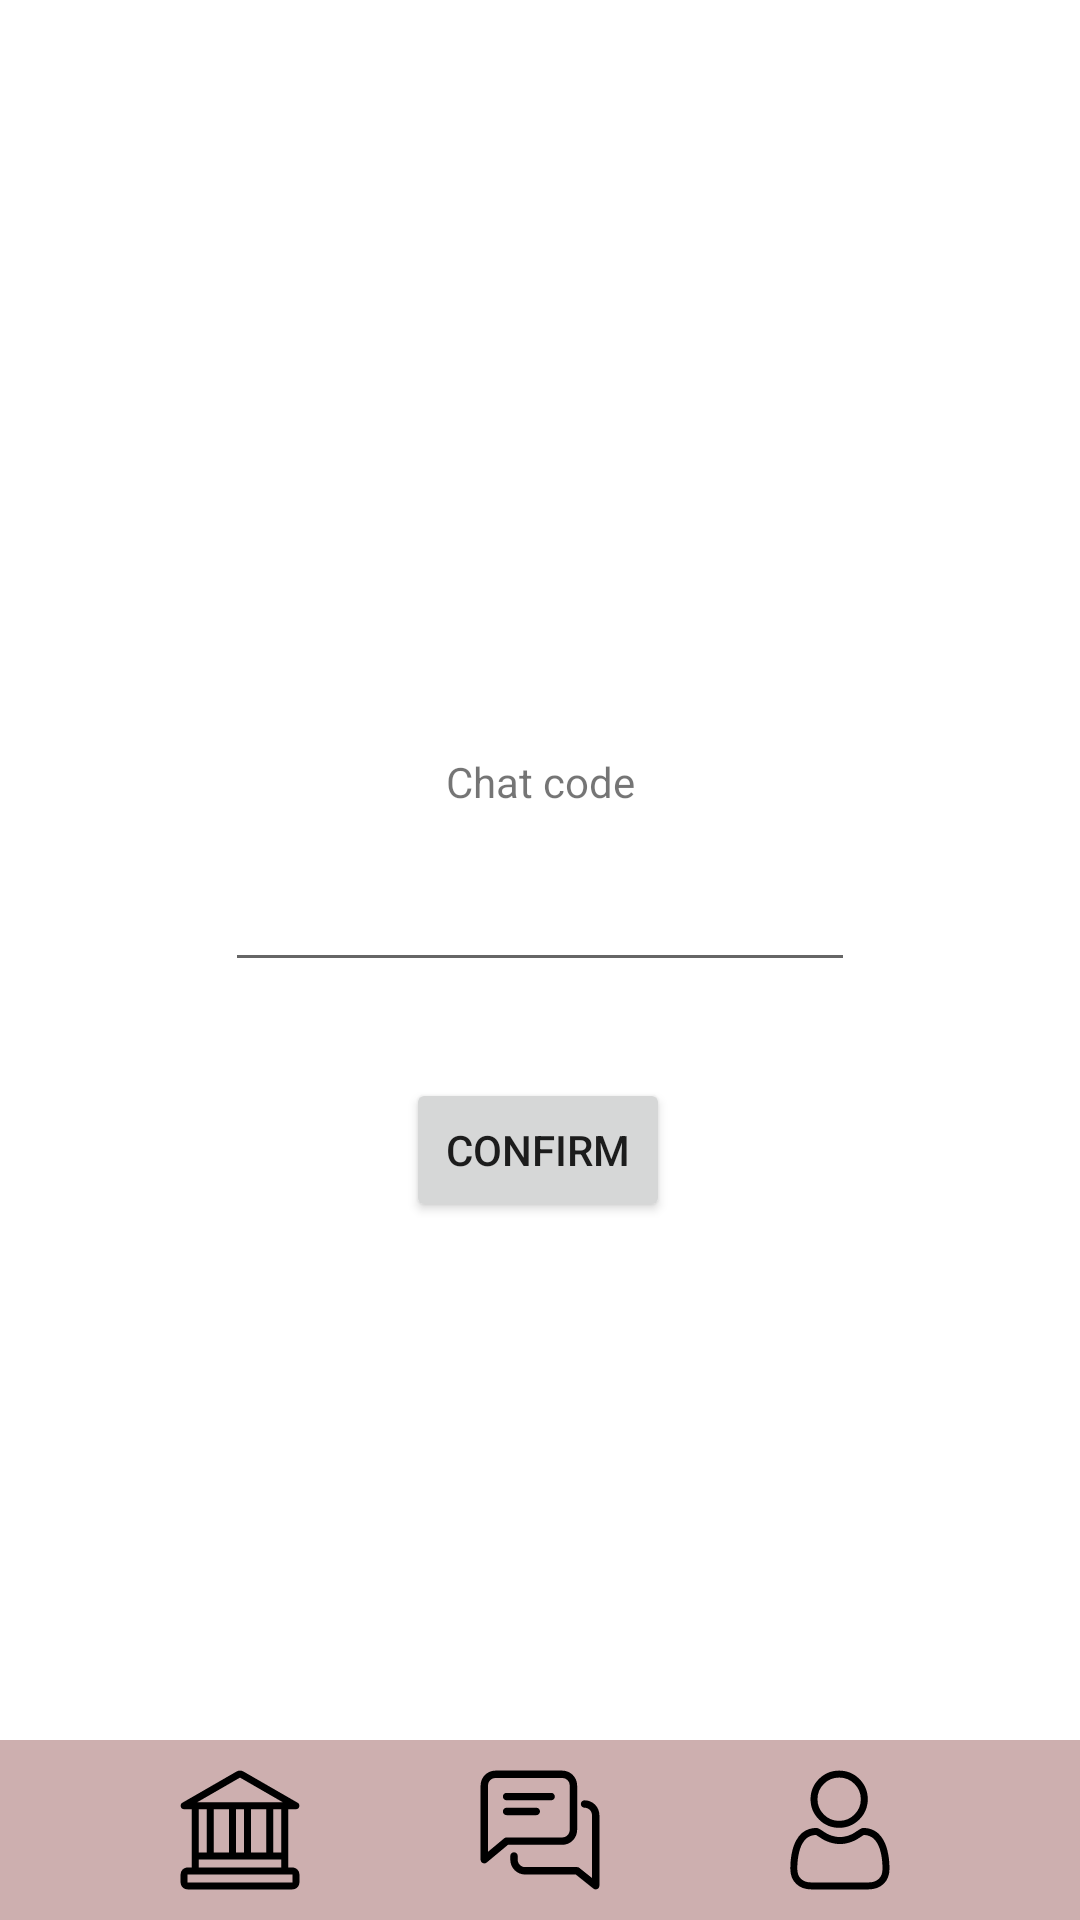

Screen size 1080 × 1920. Icon name, then its box in pixels as [x1, y1, x2, y2]:
chat: [480, 1770, 600, 1890]
university: [180, 1770, 300, 1890]
user: [790, 1770, 890, 1890]
